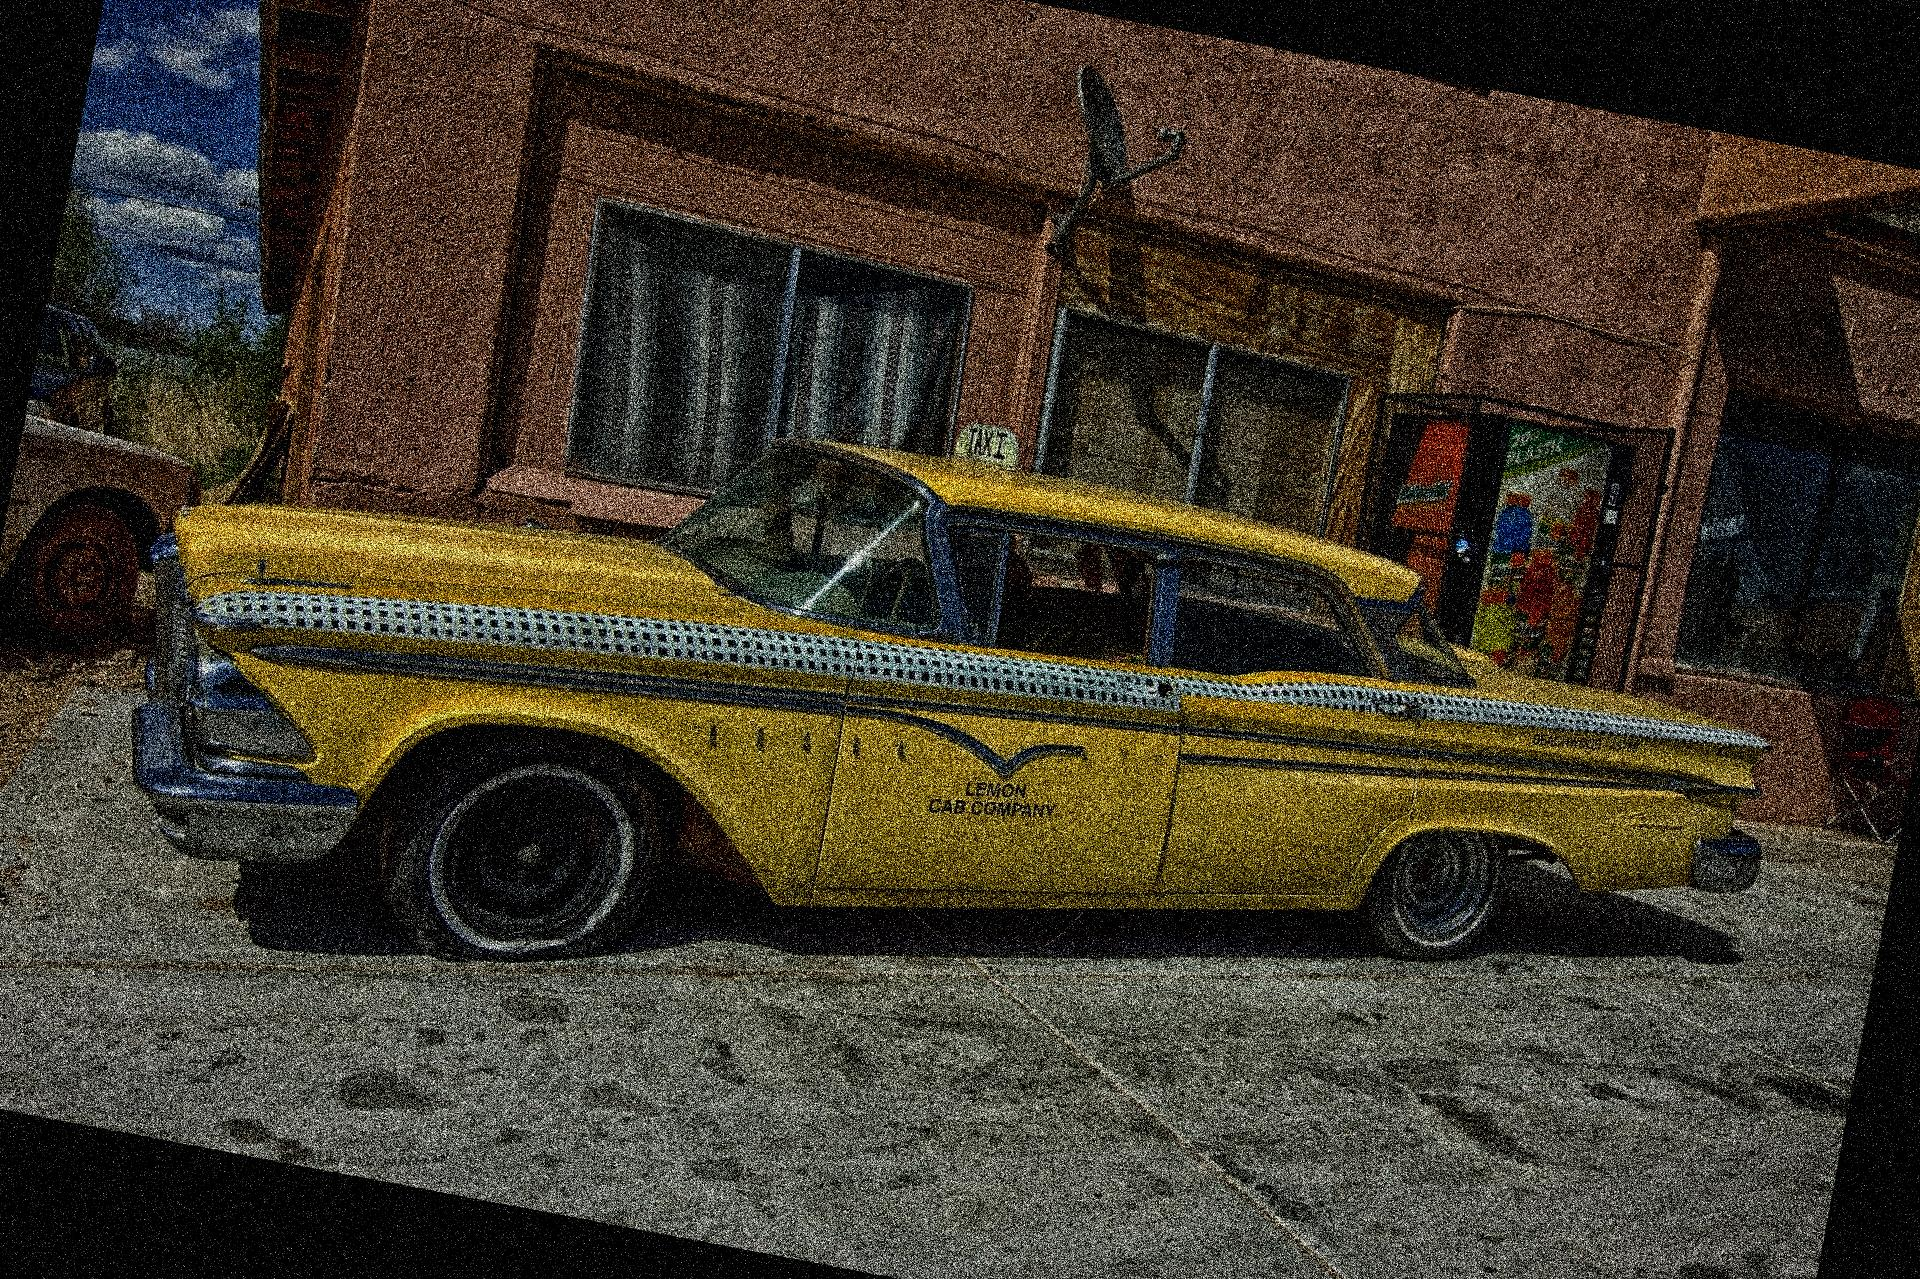taxi: (136, 441, 1792, 962)
